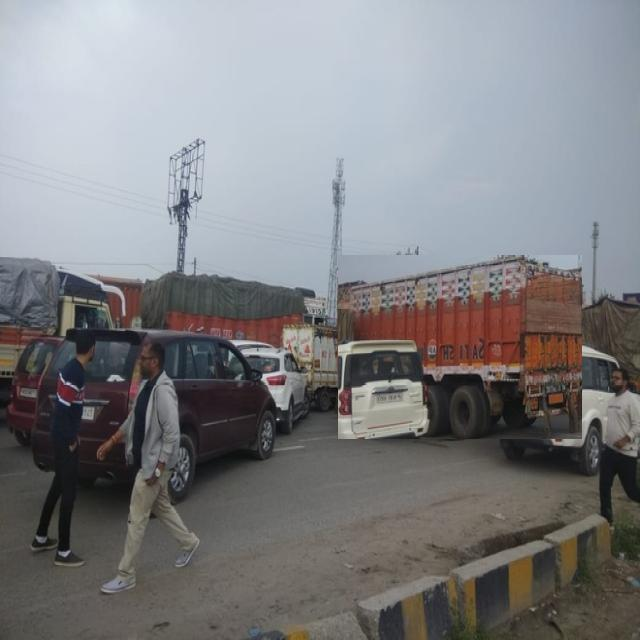car: (79, 330, 276, 502), (491, 342, 618, 474), (233, 342, 310, 432)
truck: (338, 255, 582, 439)
